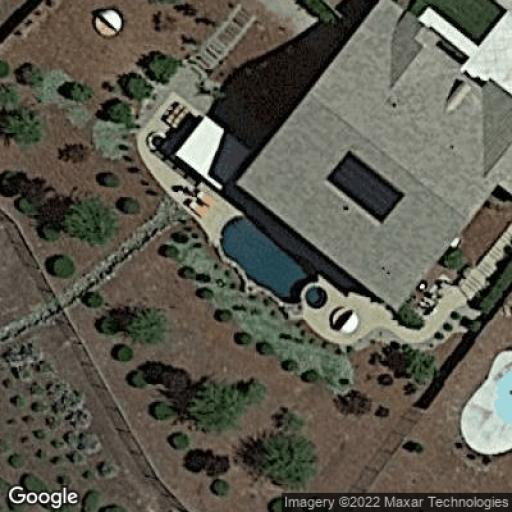solar-panel: (328, 148, 406, 223)
